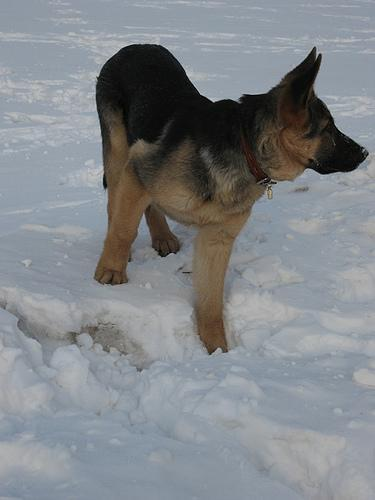German_shepherd: (91, 40, 371, 353)
